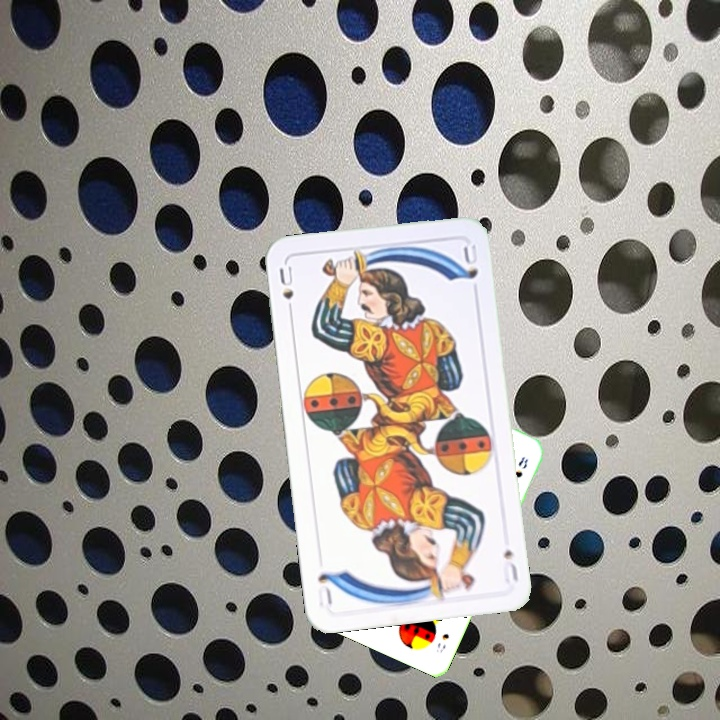S8: (432, 629, 452, 656)
SU: (275, 261, 296, 320), (498, 545, 521, 586)
